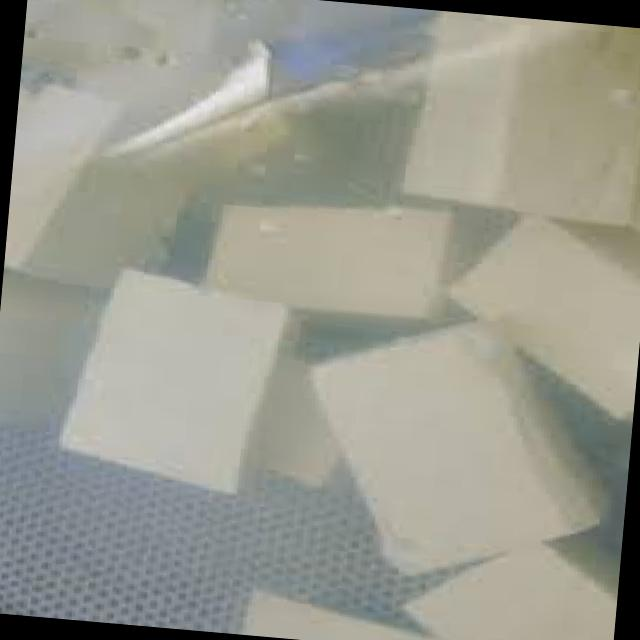tof: (299, 312, 612, 584), (41, 255, 302, 505)
